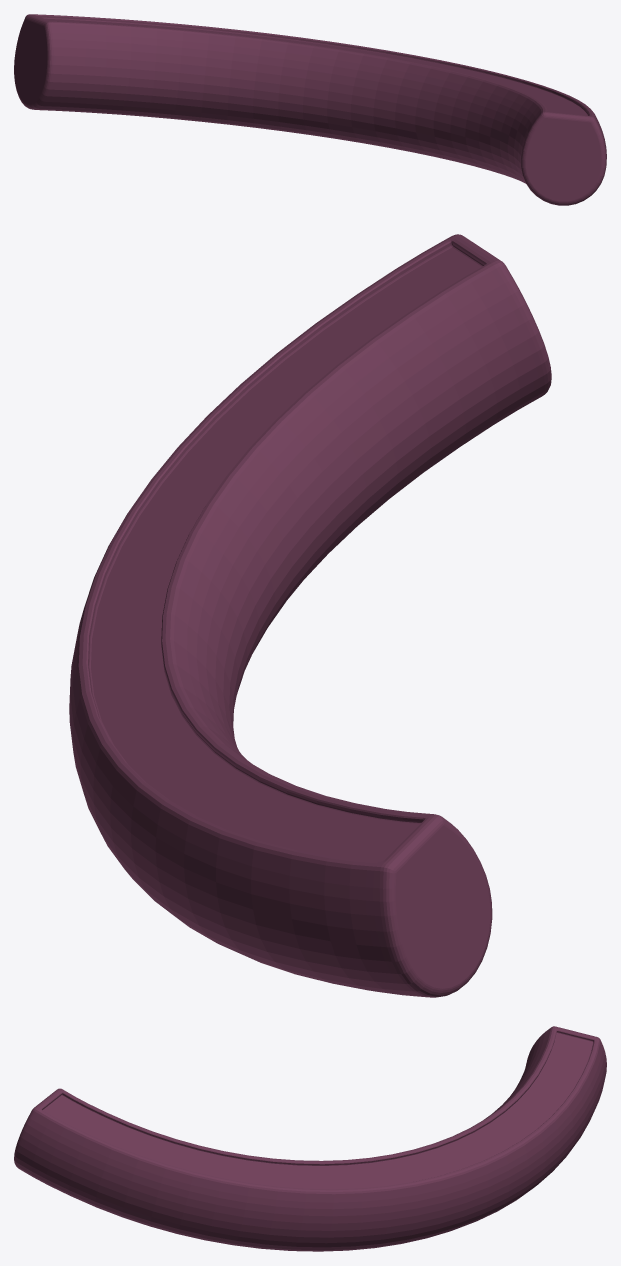
The model's file is Lampg.fbx.
3 renders of one model, top to bottom at view 1: azimuth 30°, elevation 25°; view 2: azimuth 150°, elevation 25°; view 3: azimuth 270°, elevation 25°, orthographic. The views are drawn at different scales.
Visible parts, largest first — view 1: BeInspiration_69:Circle009; view 2: BeInspiration_69:Circle009; view 3: BeInspiration_69:Circle009.
Part boxes in pixels (<box>): BeInspiration_69:Circle009: <box>14,14,606,205</box>; BeInspiration_69:Circle009: <box>69,234,551,997</box>; BeInspiration_69:Circle009: <box>14,1026,606,1251</box>.
Size of the model in its own units: 41.4 by 18.67 by 66.34.
